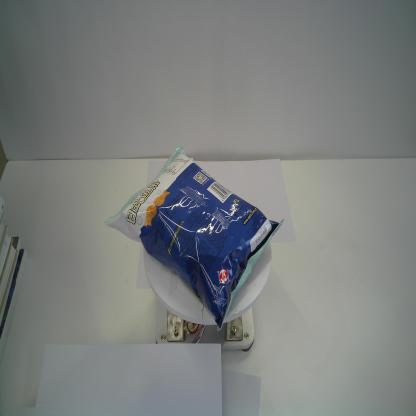Puffed Food: (104, 144, 284, 332)
